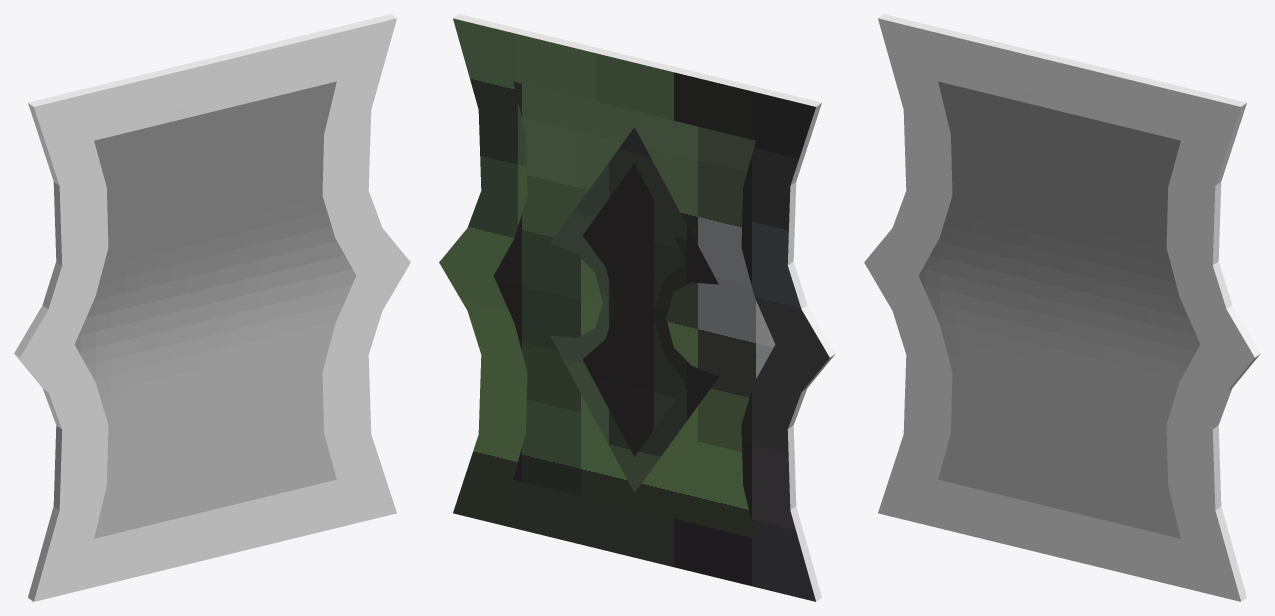
The model's file is justice.obj.
3 views of the same model, side by side, from view 1: azimuth 30°, elevation 25°; view 2: azimuth 150°, elevation 25°; view 3: azimuth 330°, elevation 25° (orthographic).
Bounding box in the file's own units: 76.03 × 92 × 2.
